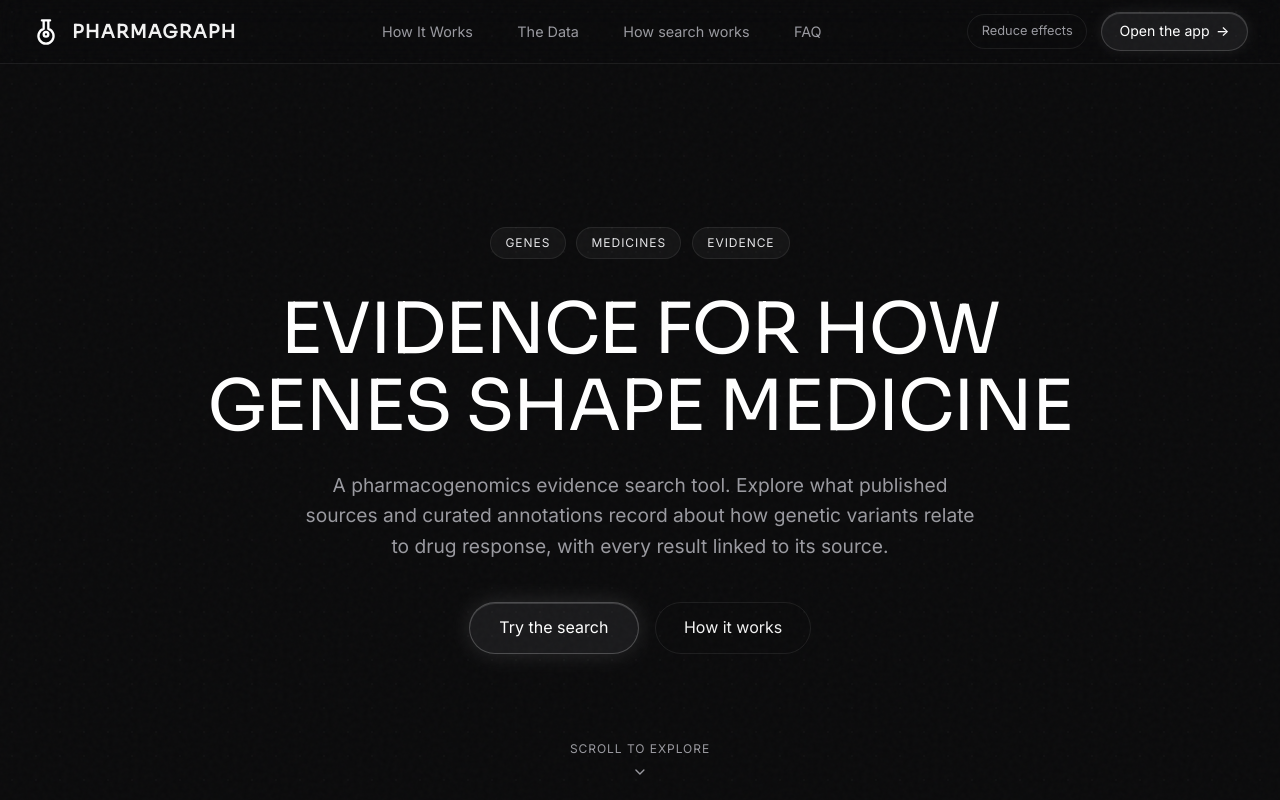
Test: LandingPage Component Suite › toggles reduced effects mode when toggle button is clicked
Step 1. Click the button with aria-label "toggle visual animation effects" → (1027, 32), box [967,14,1087,49]
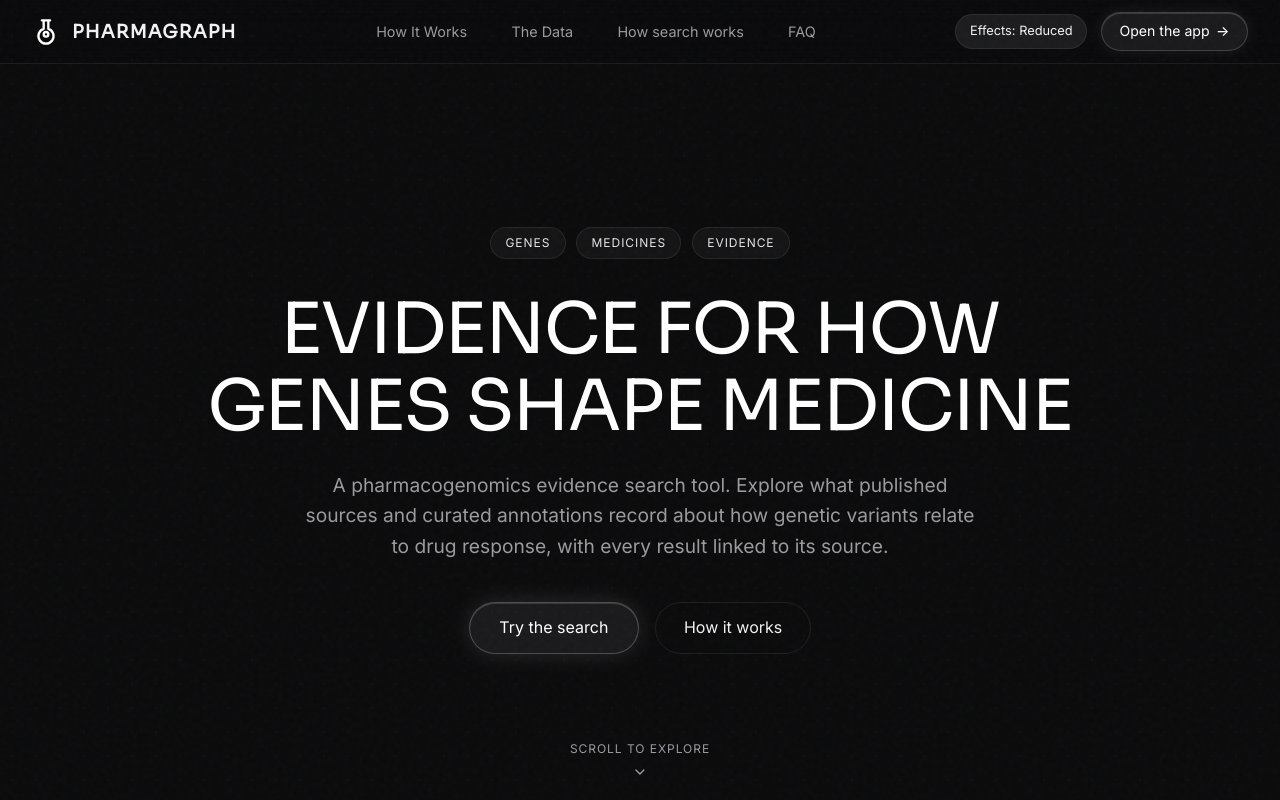
Expected: the button with aria-label "toggle visual animation effects" reads "Effects: Reduced"
Step 2. Click the button with aria-label "toggle visual animation effects" → (1021, 32), box [955,14,1087,49]
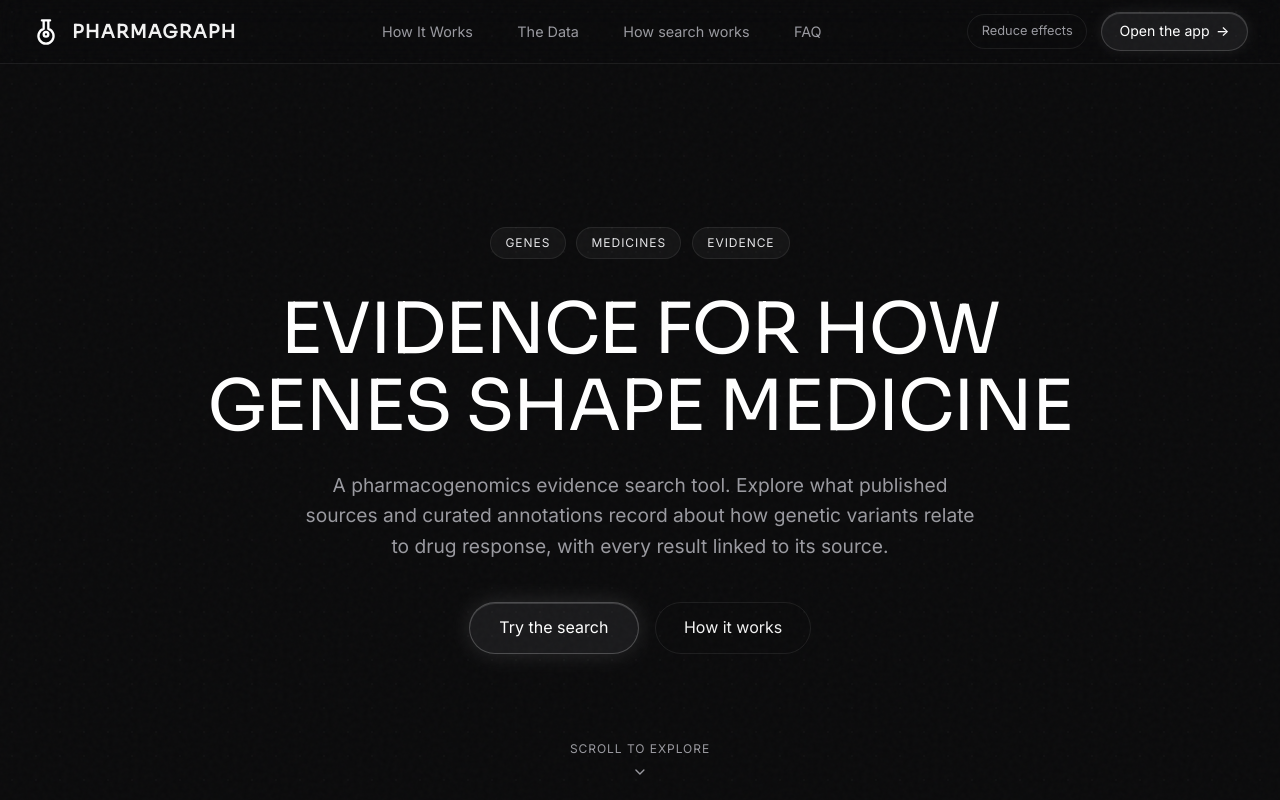
Expected: the button with aria-label "toggle visual animation effects" reads "Reduce effects", [967,14,1087,49]
